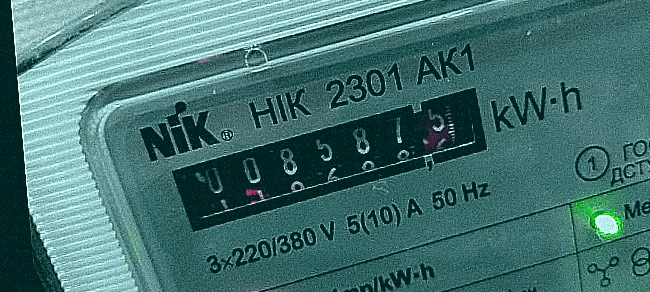0: (237, 150, 266, 186), (200, 161, 228, 195)
5: (312, 131, 337, 164), (423, 100, 448, 132)
6: (431, 134, 451, 153)
7: (385, 112, 410, 148)
8: (275, 143, 302, 177), (348, 122, 374, 157)
screen: (158, 84, 514, 234)
